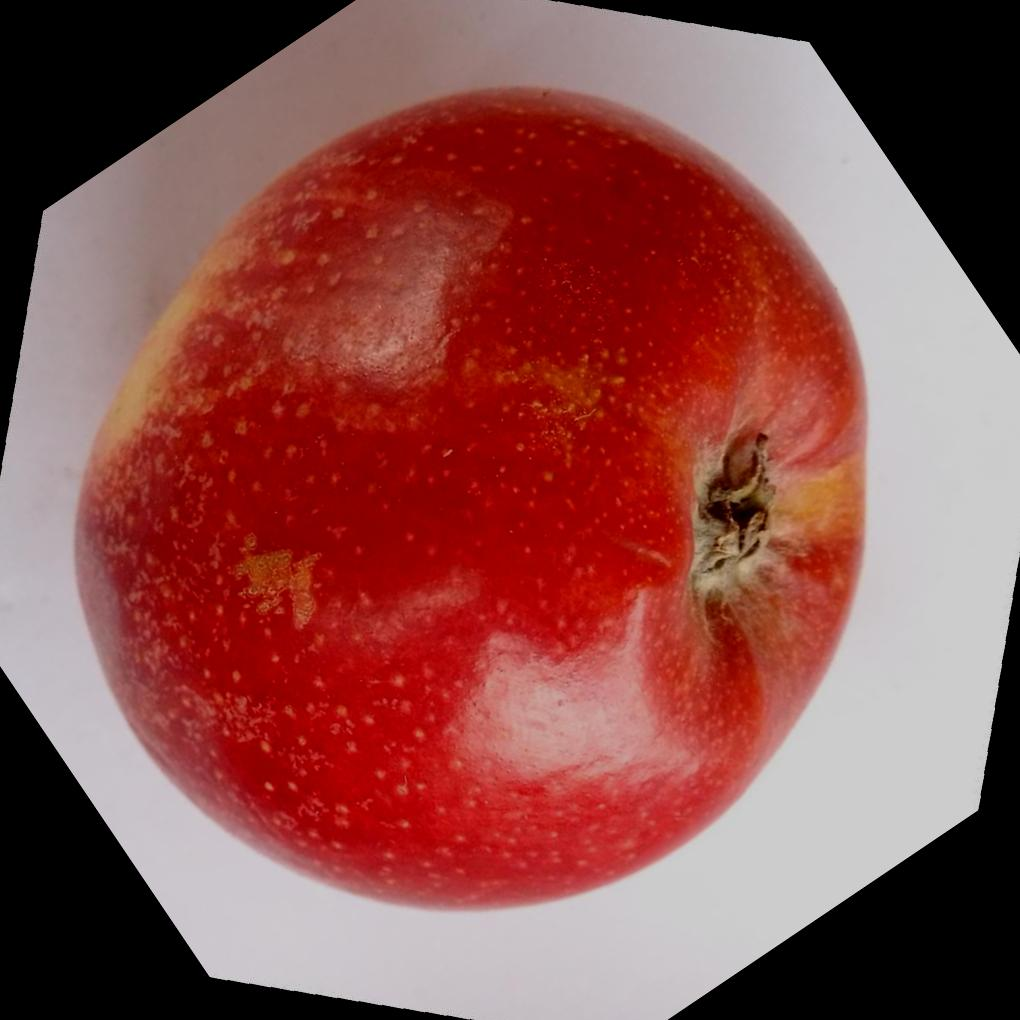FreshGuava: (68, 84, 874, 926)
